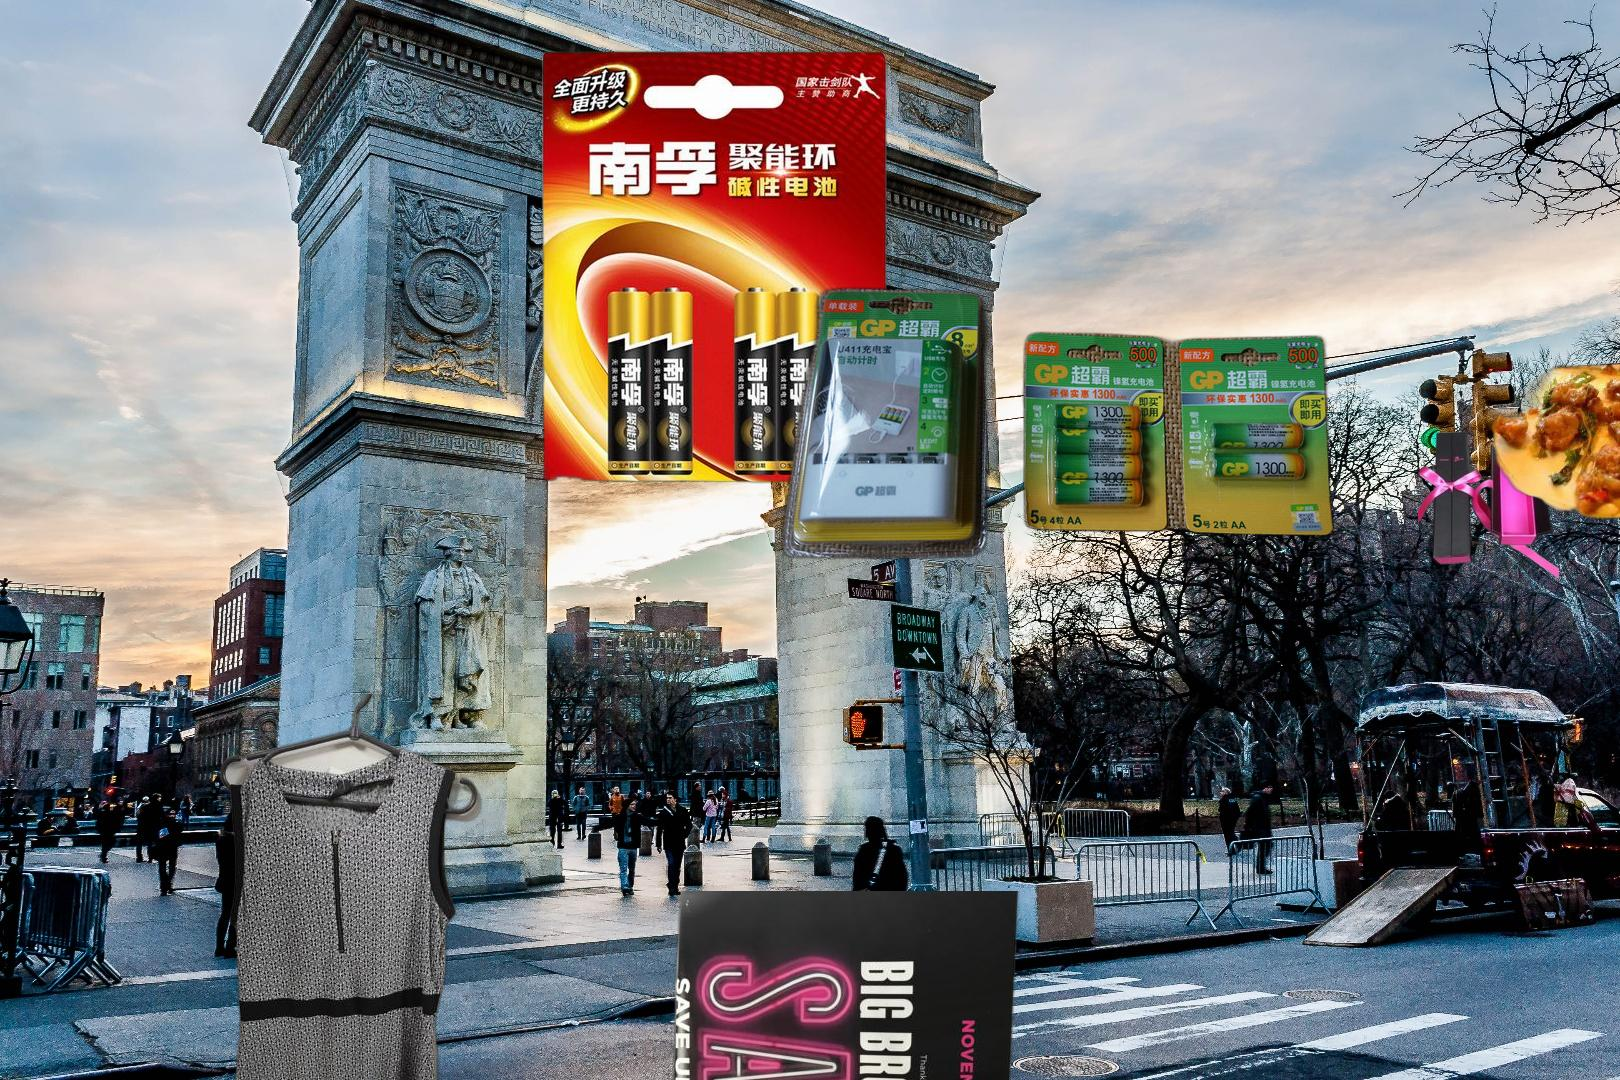battery: (538, 47, 891, 487), (776, 284, 1339, 560)
biological: (1401, 350, 1620, 547)
clothes: (143, 694, 483, 1080)
paper: (661, 891, 1025, 1080)
paper-bag: (592, 184, 808, 372)
trashbox-cardboard: (1417, 429, 1559, 582)
